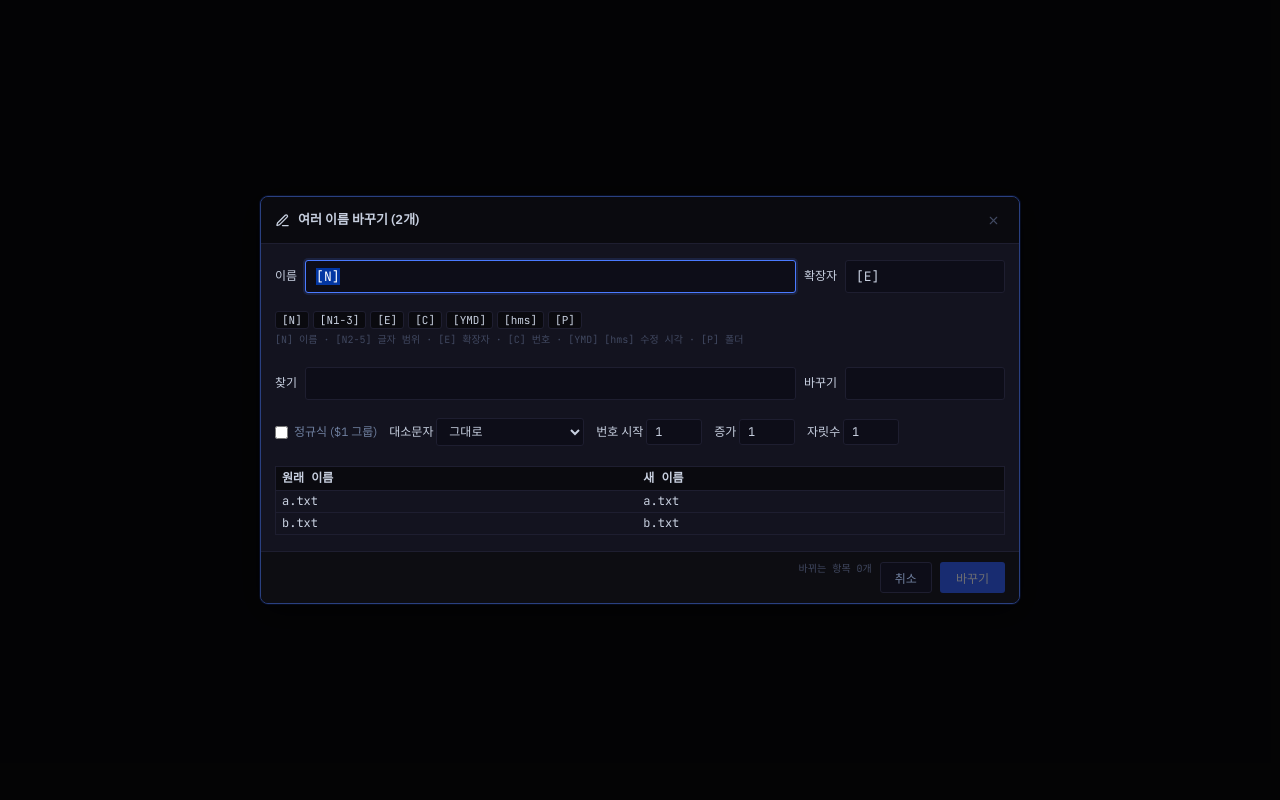
Test case: 여러 이름 바꾸기 창 (MD) › MD-04: 충돌은 표시하고 바꾸기 꺼짐
Replace the text in the field named "이름 마스크" with "x". click: [550, 277]
box: [305, 260, 796, 293]
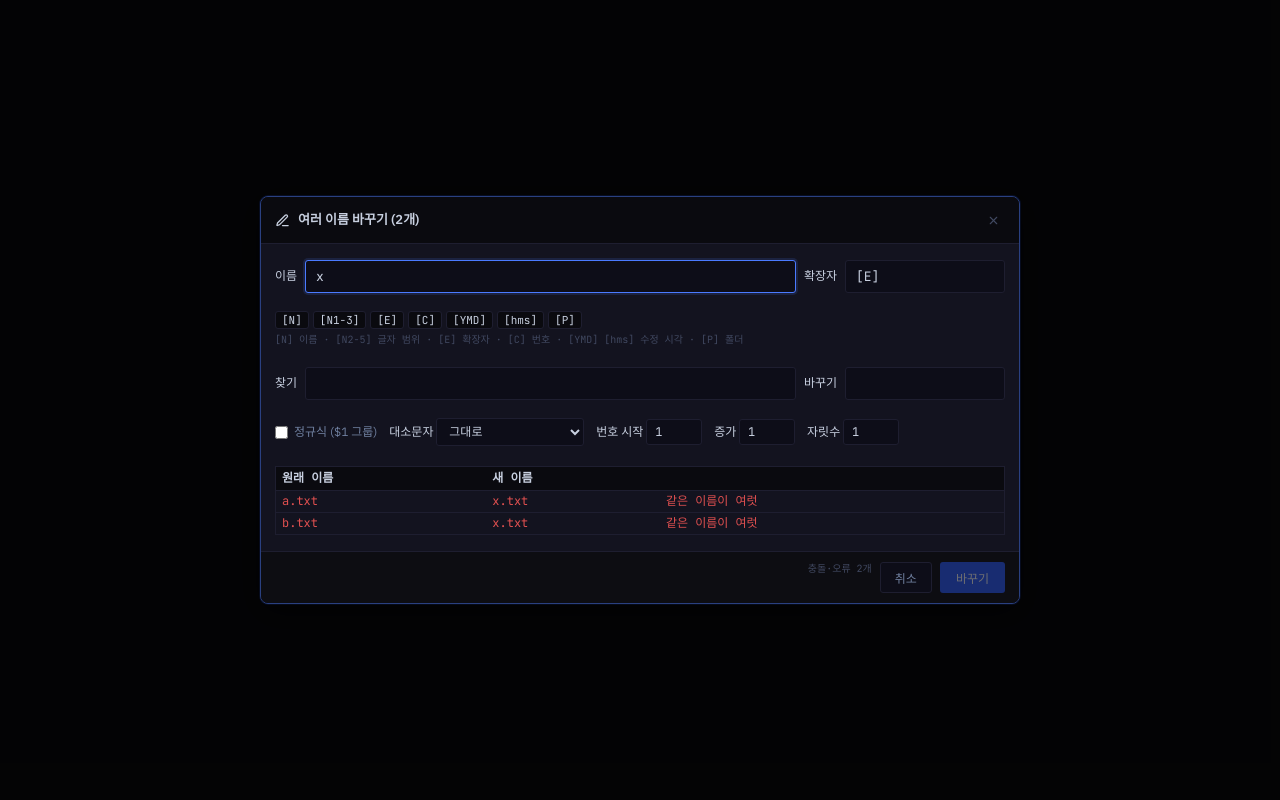
Expected: the button "바꾸기" is disabled, [940, 562, 1005, 593]
Result: the text "같은 이름이 여럿" in the row of "a.txt" is shown at [666, 493, 758, 509]
